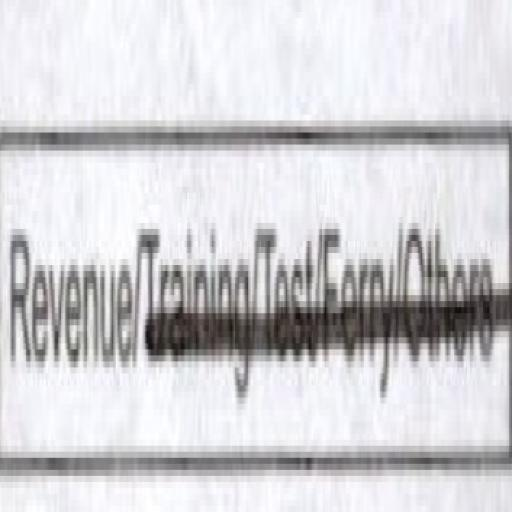check: (0, 66, 139, 512)
